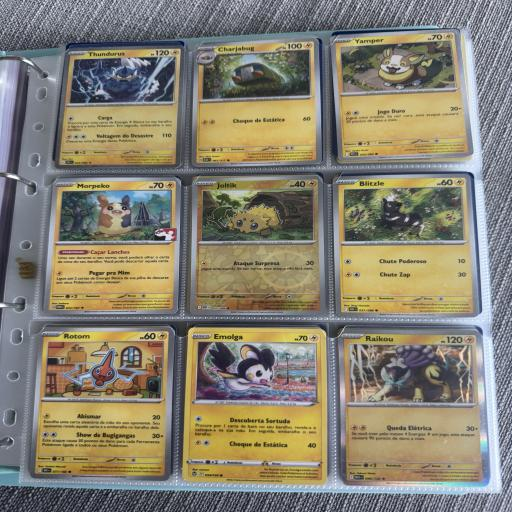card: (338, 326, 490, 489), (181, 325, 332, 486), (30, 325, 175, 481), (333, 174, 480, 320), (187, 176, 326, 318), (330, 28, 474, 163), (43, 177, 181, 315), (184, 38, 326, 172), (55, 44, 185, 171)
